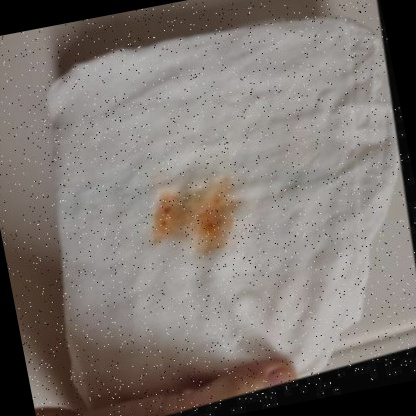kimchi: (143, 169, 246, 268)
